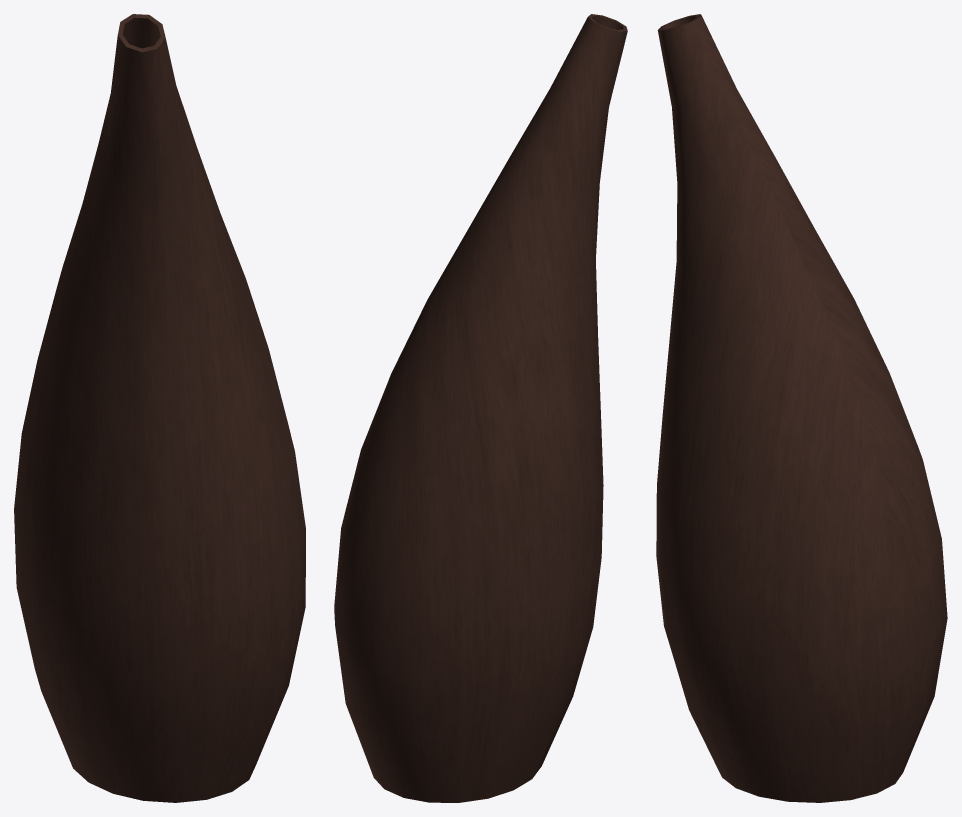
File: VaseDecorativeA.fbx
3 renders of one model, left to right at view 1: azimuth 30°, elevation 25°; view 2: azimuth 150°, elevation 25°; view 3: azimuth 270°, elevation 25°, orthographic. The views are drawn at different scales.
Visible parts, largest first — view 1: VaseDecorativeA; view 2: VaseDecorativeA; view 3: VaseDecorativeA.
Part boxes in pixels (box(x1,y1,x2,y2)): VaseDecorativeA: box(14, 14, 305, 802); VaseDecorativeA: box(334, 14, 627, 802); VaseDecorativeA: box(656, 14, 947, 802).
Size of the model in its own units: 16.98 by 53.14 by 19.64.
